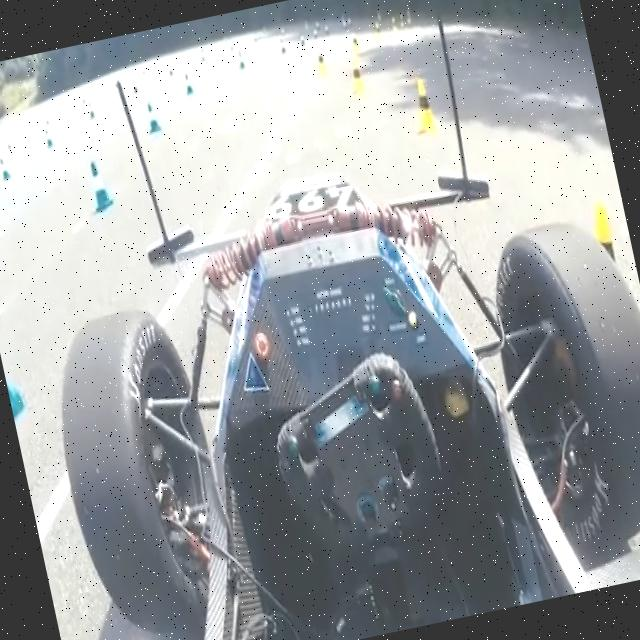blue_cone: (84, 158, 116, 214), (144, 101, 163, 134)
yellow_cone: (406, 76, 442, 136), (345, 56, 370, 98)
